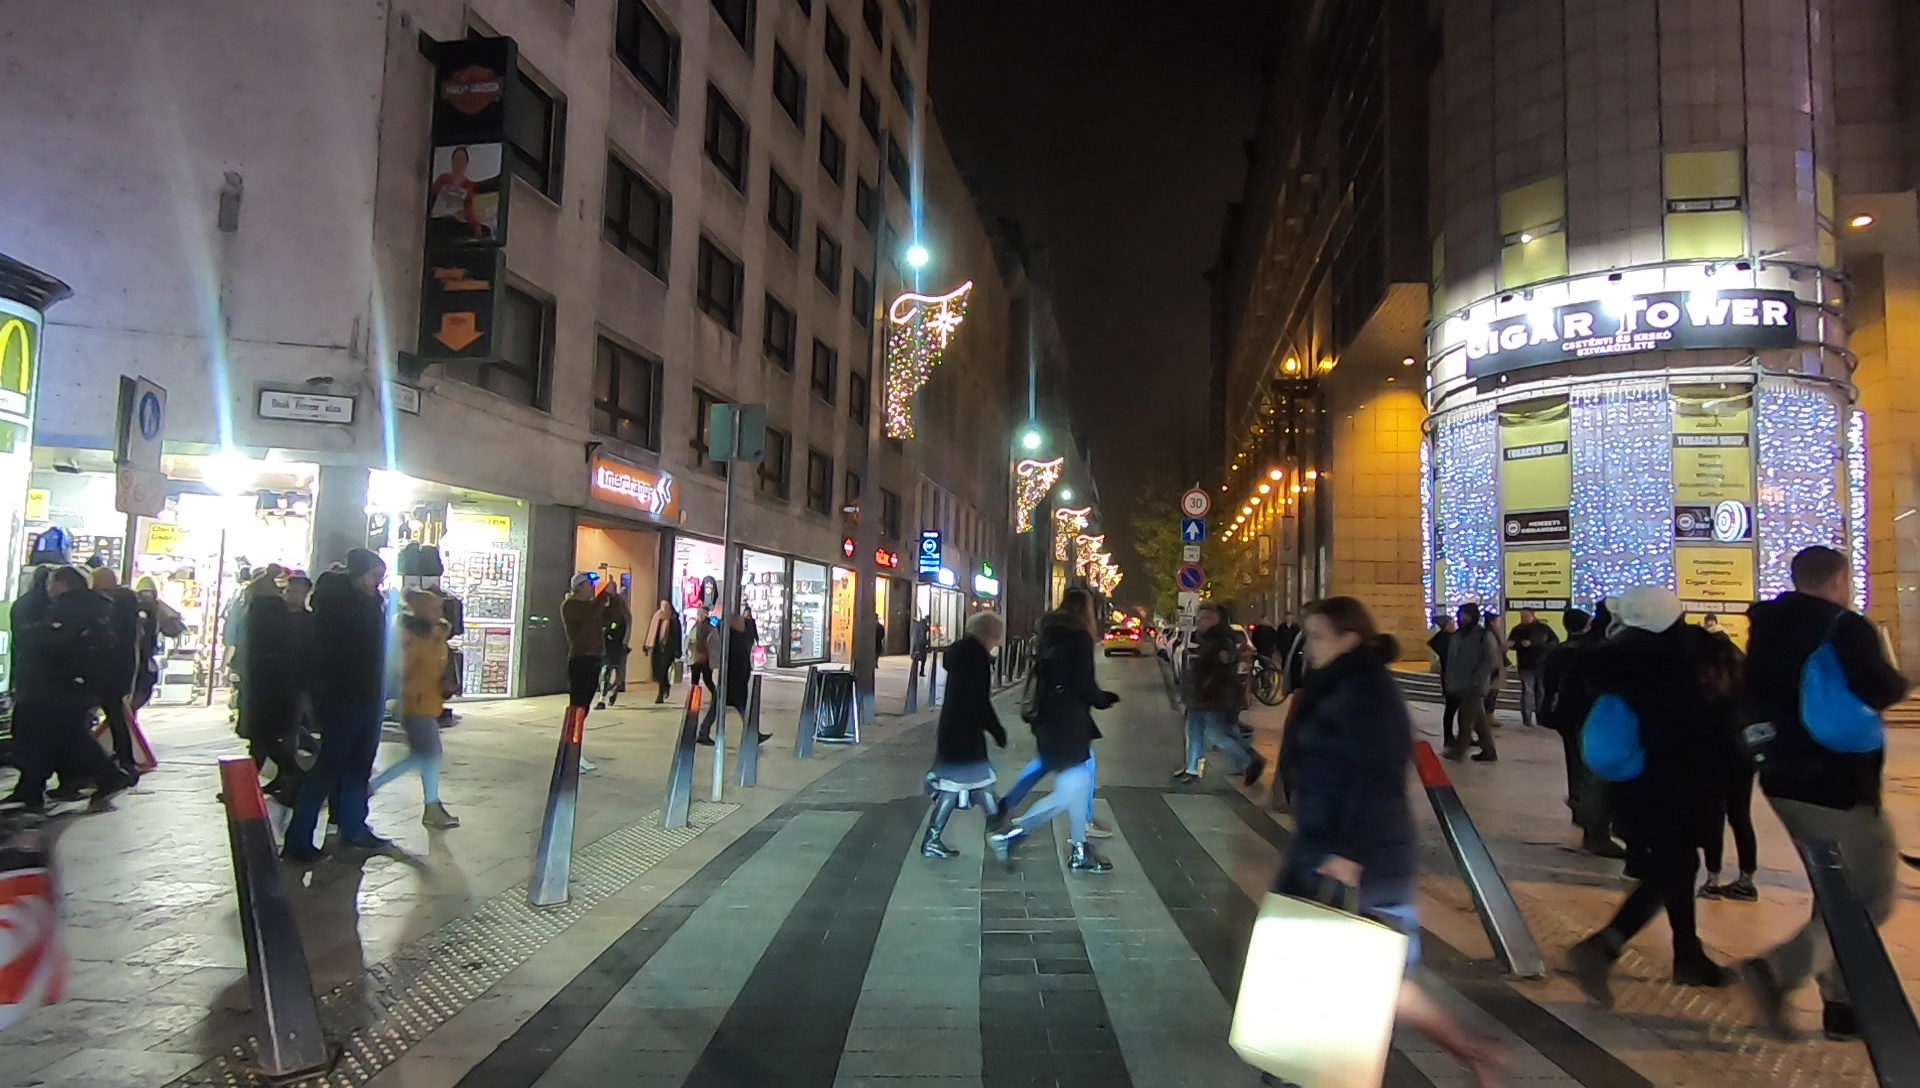person: (1743, 543, 1888, 1050), (1260, 587, 1417, 1037), (1580, 587, 1723, 1024), (1680, 604, 1780, 910), (304, 543, 393, 876), (1010, 586, 1106, 878), (923, 600, 1014, 865), (373, 584, 464, 836), (38, 571, 126, 808), (1173, 584, 1260, 791), (239, 573, 304, 819), (702, 606, 773, 749), (556, 558, 602, 761), (1441, 595, 1497, 758), (126, 571, 180, 741), (1504, 597, 1556, 732), (88, 567, 125, 741), (604, 580, 634, 736), (645, 597, 680, 713), (686, 600, 710, 710)
